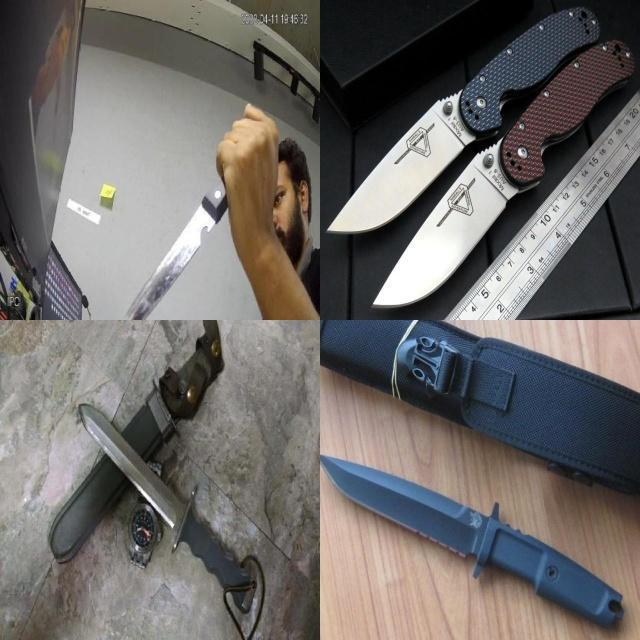-: (365, 31, 640, 309), (324, 10, 609, 237), (318, 452, 640, 640), (71, 396, 265, 619), (130, 111, 279, 317)
